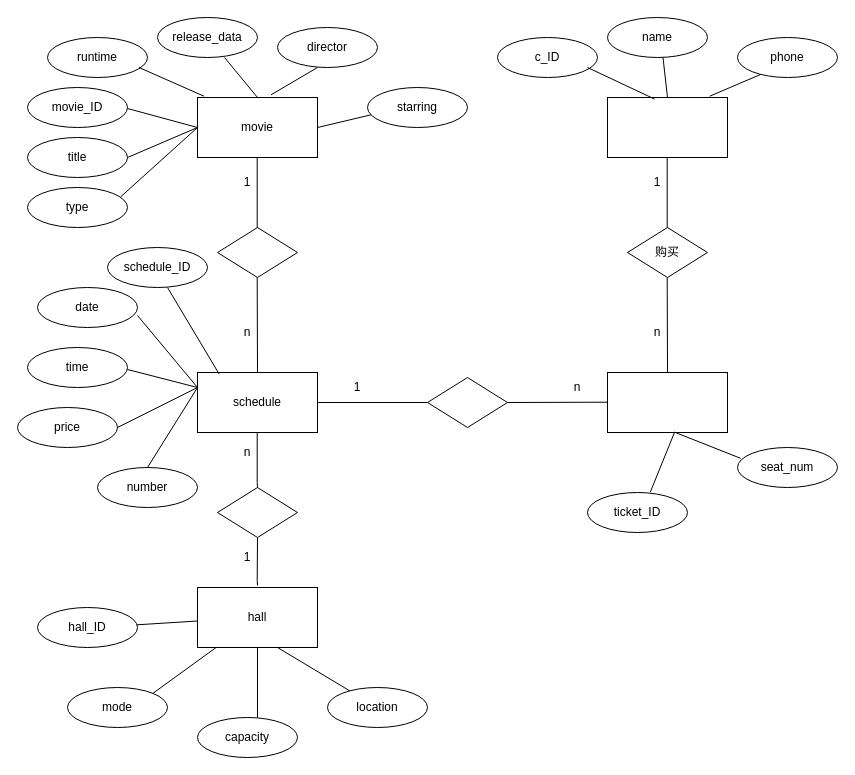
Image size: 855x775. Some labels were removed from this diagram. The shapes that lost their labels are listed below. From the top down, each one's box as (x1, y1, x2, y2) in pixels, then its label:
(606, 96, 728, 158): customer
(216, 226, 298, 278): 放映
(426, 376, 508, 428): 属于
(606, 372, 728, 432): ticket
(216, 486, 298, 538): 位于
